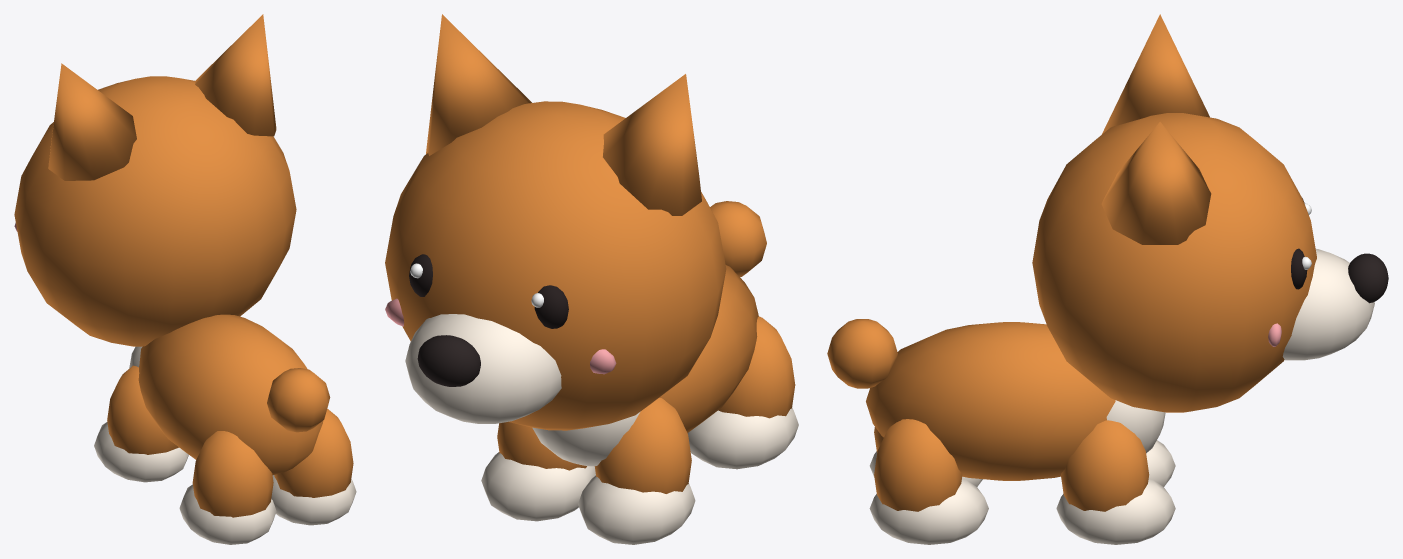
Rendered from dog_corgi.glb.
3 views of the same model, side by side, from view 1: azimuth 30°, elevation 25°; view 2: azimuth 150°, elevation 25°; view 3: azimuth 270°, elevation 25° (orthographic). The views are drawn at different scales.
Visible parts, largest first — view 1: Head, Body, EarL, EarR, LegBL, LegBR, LegFL, Tail, LegBLPaw, LegFLPaw, LegBRPaw; view 2: Head, Snout, EarL, EarR, Body, LegFL, LegFLPaw, LegFRPaw, LegBLPaw, LegBL, Tail, Chest (+5 smaller); view 3: Head, Body, EarR, LegBR, LegFR, Snout, EarL, LegFRPaw, LegBRPaw, Tail, Chest, Nose (+1 smaller).
Part boxes in pixels (<box>): Head: <box>14,76,296,346</box>; Body: <box>138,314,323,474</box>; EarL: <box>48,63,136,180</box>; EarR: <box>194,14,276,136</box>; LegBL: <box>192,431,273,517</box>; LegBR: <box>274,409,353,497</box>; LegFL: <box>107,365,178,454</box>; Tail: <box>267,368,330,432</box>; LegBLPaw: <box>179,484,276,544</box>; LegFLPaw: <box>94,422,188,482</box>; LegBRPaw: <box>271,475,356,525</box>; Head: <box>385,101,726,430</box>; Snout: <box>405,314,561,423</box>; EarL: <box>603,74,701,215</box>; EarR: <box>426,14,531,155</box>; Body: <box>659,265,758,432</box>; LegFL: <box>594,398,691,493</box>; LegFLPaw: <box>578,475,695,544</box>; LegFRPaw: <box>481,452,595,521</box>; LegBLPaw: <box>687,407,798,469</box>; LegBL: <box>718,316,795,418</box>; Tail: <box>710,201,766,276</box>; Chest: <box>532,411,640,466</box>; Head: <box>1032,113,1316,412</box>; Body: <box>866,322,1115,480</box>; EarR: <box>1101,122,1211,244</box>; LegBR: <box>874,419,962,511</box>; LegFR: <box>1061,420,1149,511</box>; Snout: <box>1282,249,1374,360</box>; EarL: <box>1102,14,1209,134</box>; LegFRPaw: <box>1056,478,1175,544</box>; LegBRPaw: <box>869,478,988,544</box>; Tail: <box>827,319,897,388</box>; Chest: <box>1106,400,1165,453</box>; Nose: <box>1348,253,1388,303</box>.
Bounding box in the file's own units: 0.6328 × 1.01 × 1.14.
